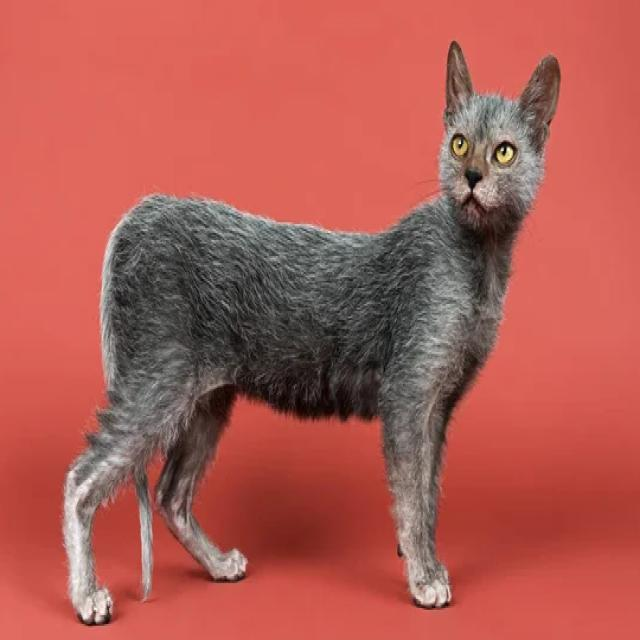Lykoi: (57, 36, 564, 630)
